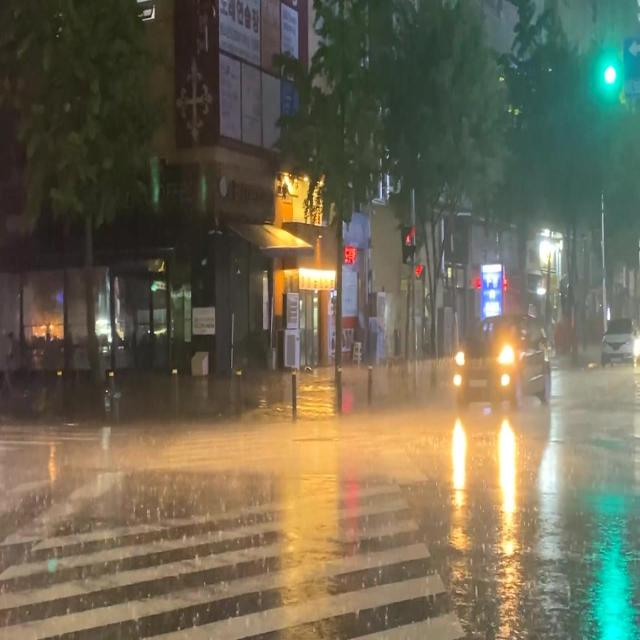Car: (453, 311, 550, 420)
